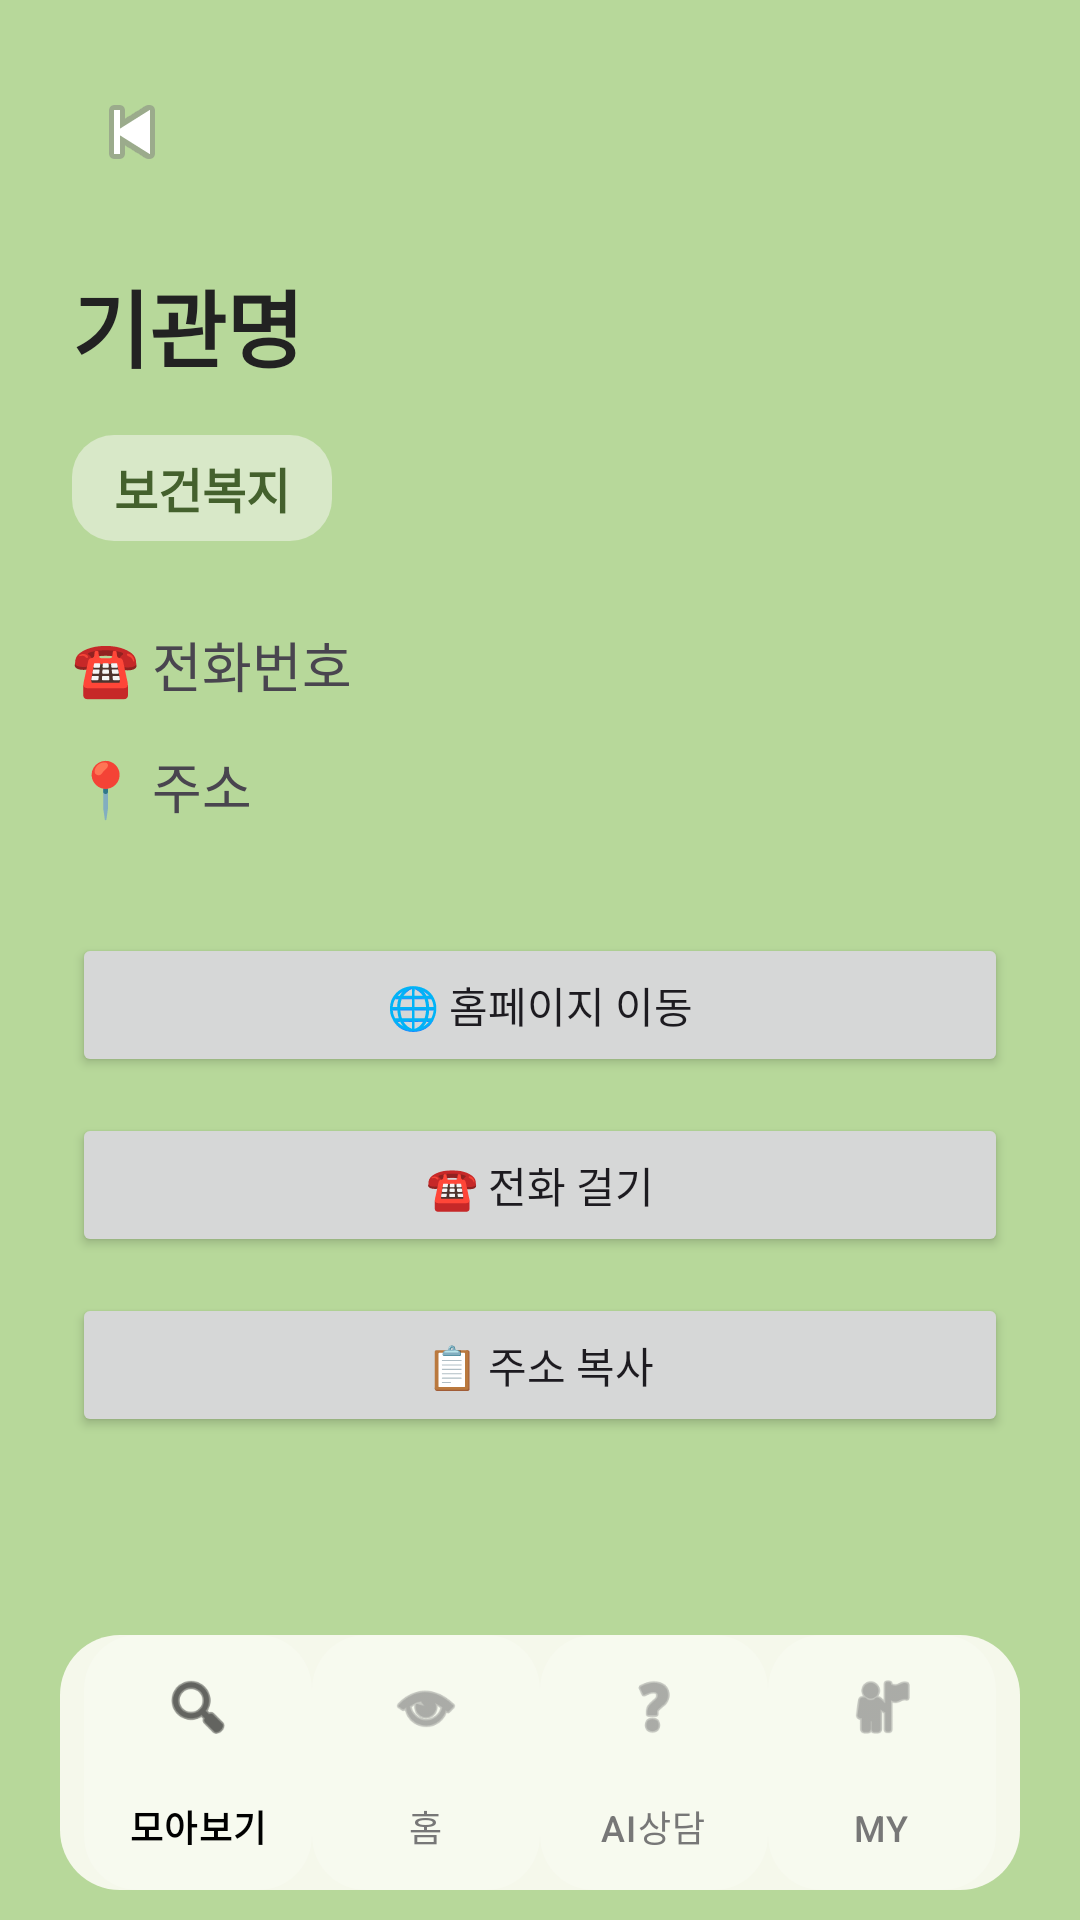

Screen size 1080x1920. Icon name, then its center in pixels as point (x, y):
previous: point (132, 132)
